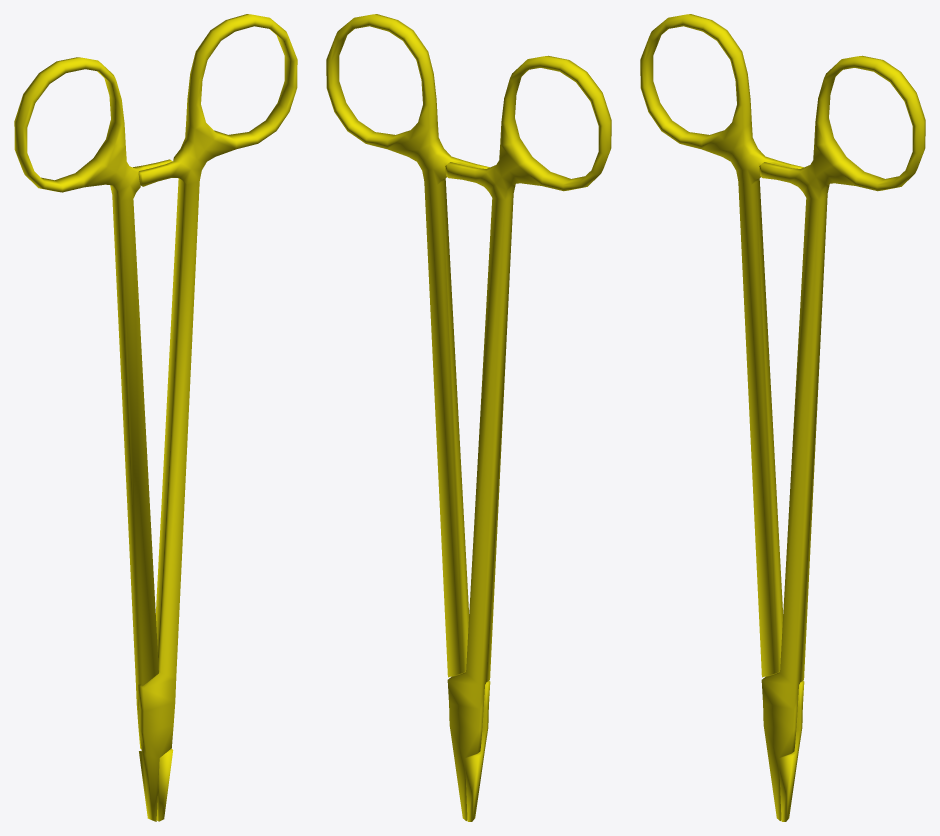
The model's file is instruments.fbx.
3 renders of one model, left to right at view 1: azimuth 30°, elevation 25°; view 2: azimuth 150°, elevation 25°; view 3: azimuth 330°, elevation 25°, orthographic.
Visible parts, largest first — view 1: Plane.001; view 2: Plane.001; view 3: Plane.001.
Boxes of the visible parts, bbox=[...] form: Plane.001: bbox=[14, 14, 297, 821]; Plane.001: bbox=[326, 14, 611, 821]; Plane.001: bbox=[640, 14, 925, 821].
Bounding box in the file's own units: 186 × 497 × 12.07.
